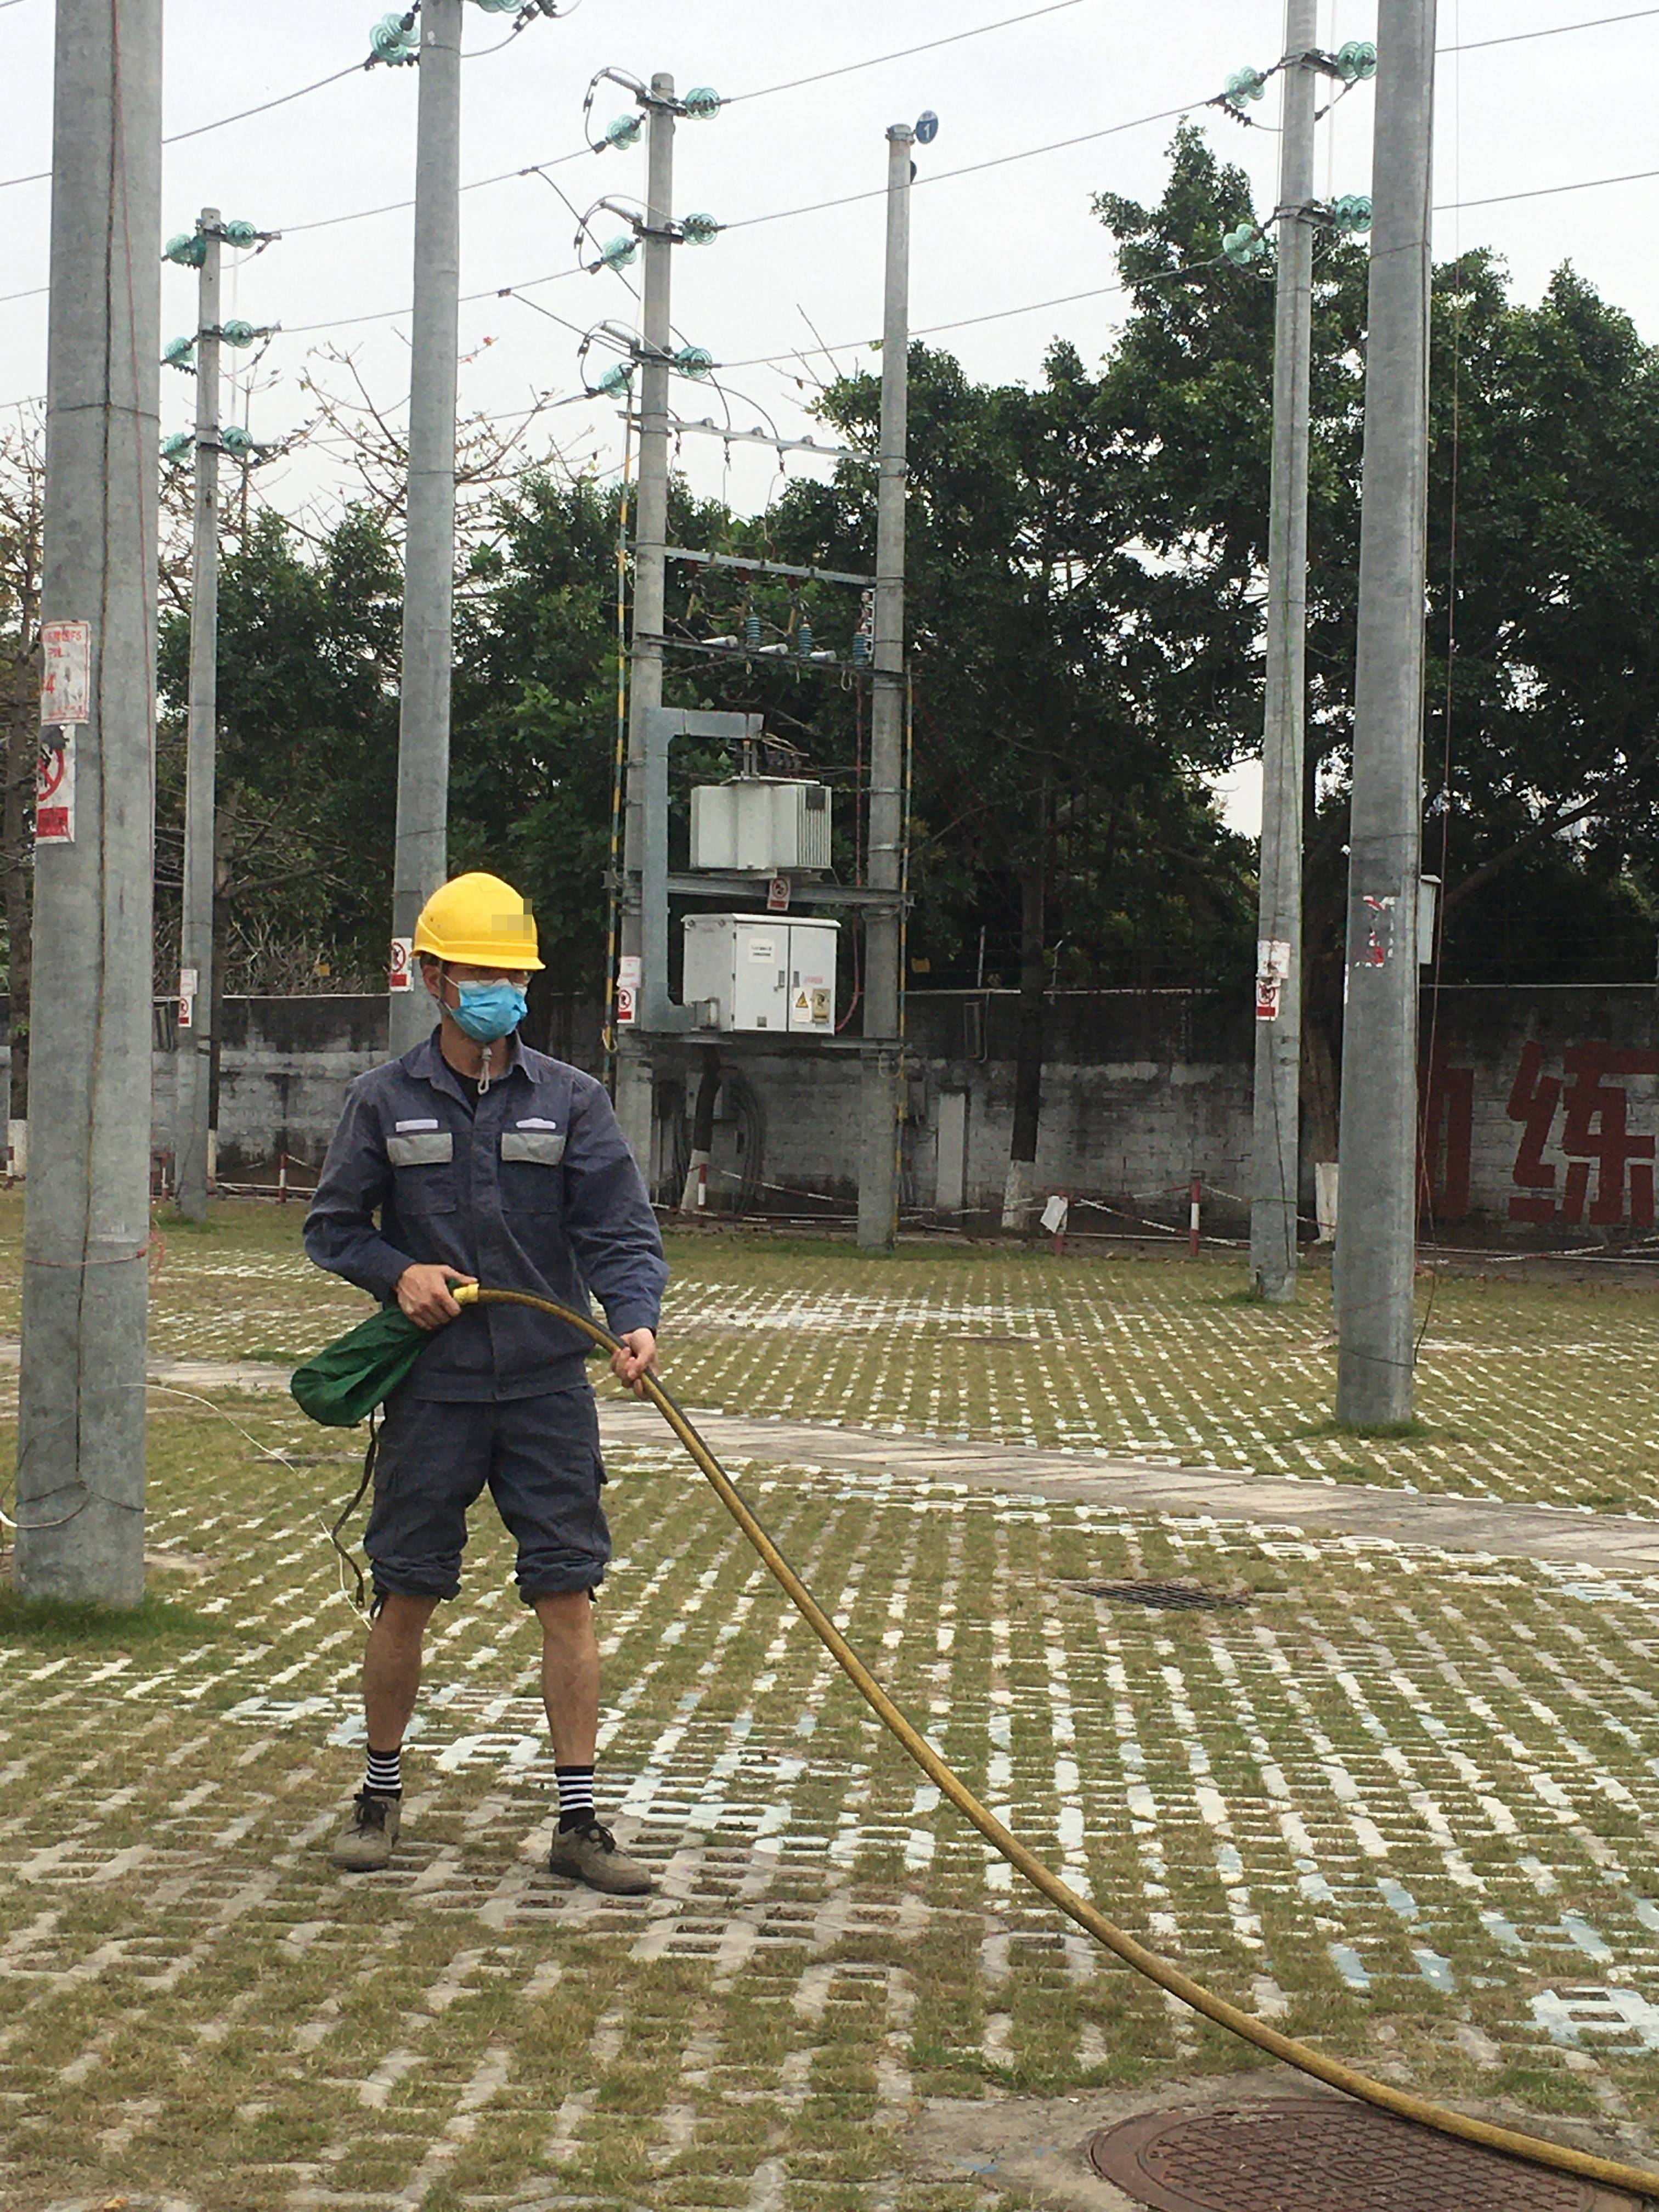downsuit: (357, 1390, 620, 1613)
upsuit: (300, 1029, 676, 1395)
wrongbottom: (350, 1548, 622, 1791)
